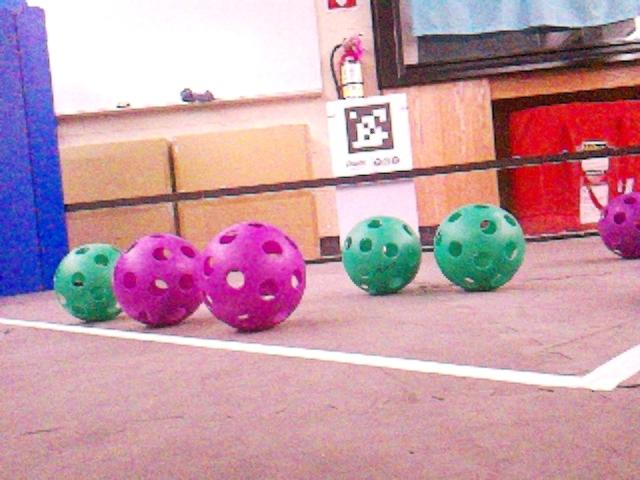Green: (431, 202, 528, 291), (340, 215, 422, 293), (52, 243, 125, 322)
Purple: (197, 222, 306, 329), (112, 233, 204, 326), (595, 190, 639, 257)
